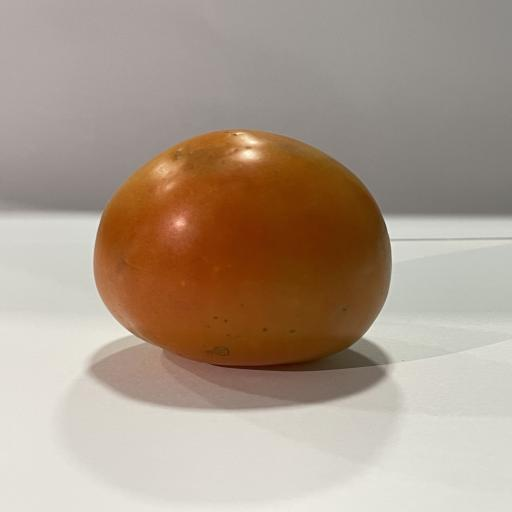unripe: (94, 130, 391, 366)
